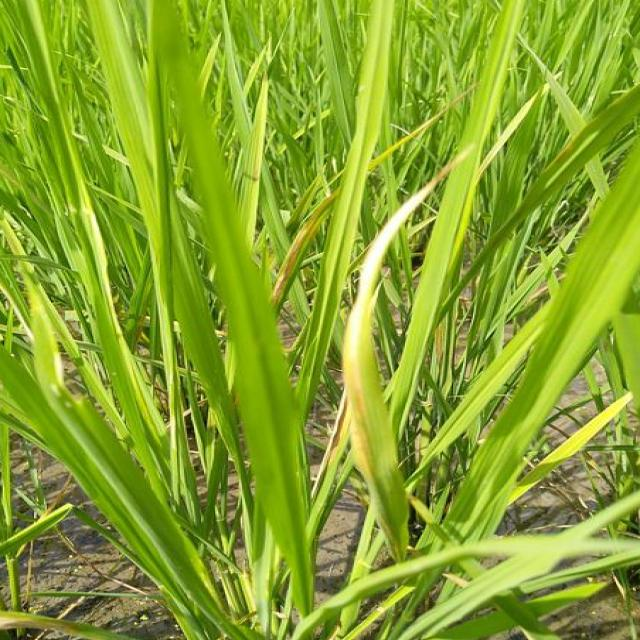Leaf Blight: (343, 162, 459, 563)
Leaf Streak: (272, 195, 336, 303)
